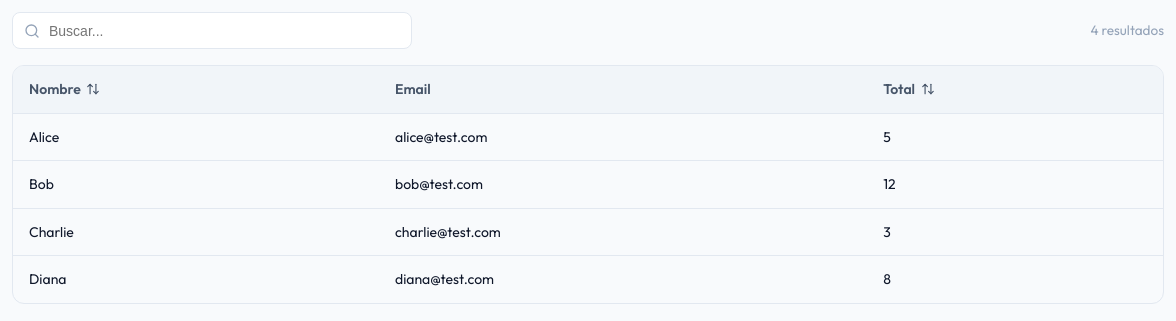
Test: DataTable › shows empty state when no results
In the field with placeholder "Buscar...": point(212, 31) 12,12 -> 412,49, type "xyz"
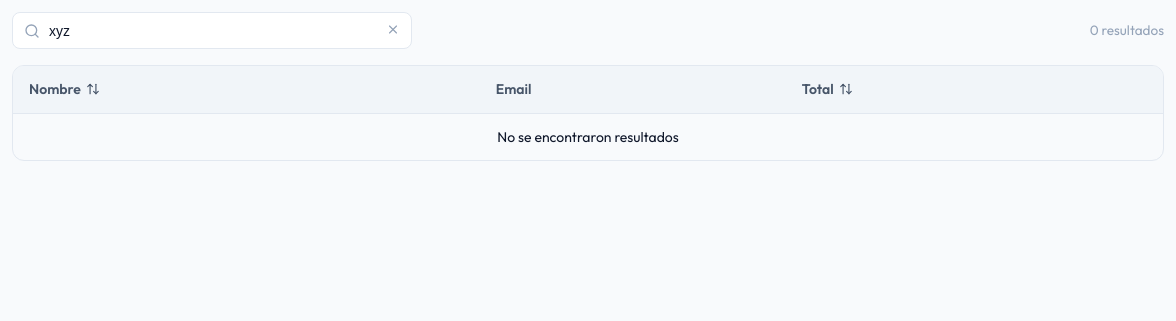
Now the text "No se encontraron resultados" is shown, box 13,114 -> 1163,160
